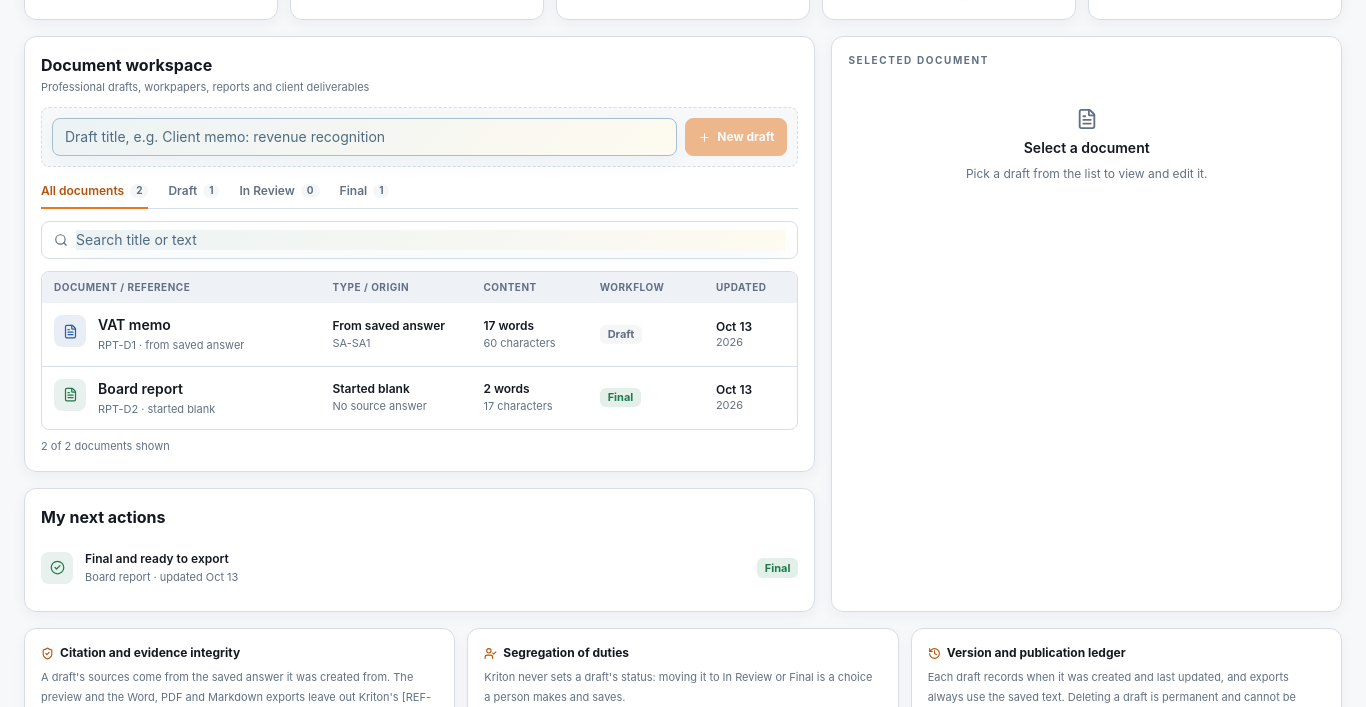
Test: Drafts & Reports › previews formatted text and lists the answer's sources
This screenshot has width=1366, height=707.
(page scrolled)
Click the text "VAT memo" at point(134, 324), box [98,316,171,333]
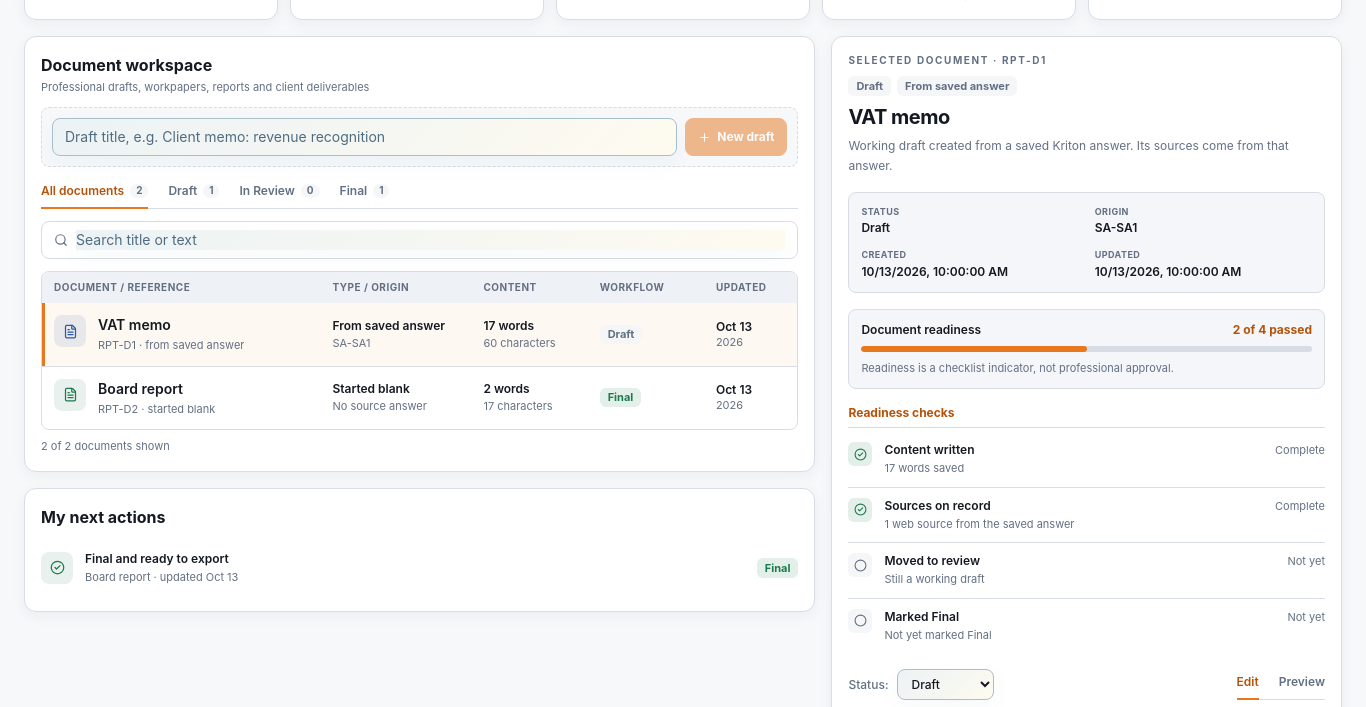
Click the tab "Preview" at point(1302, 687), box [1279,674,1325,700]
(page scrolled)
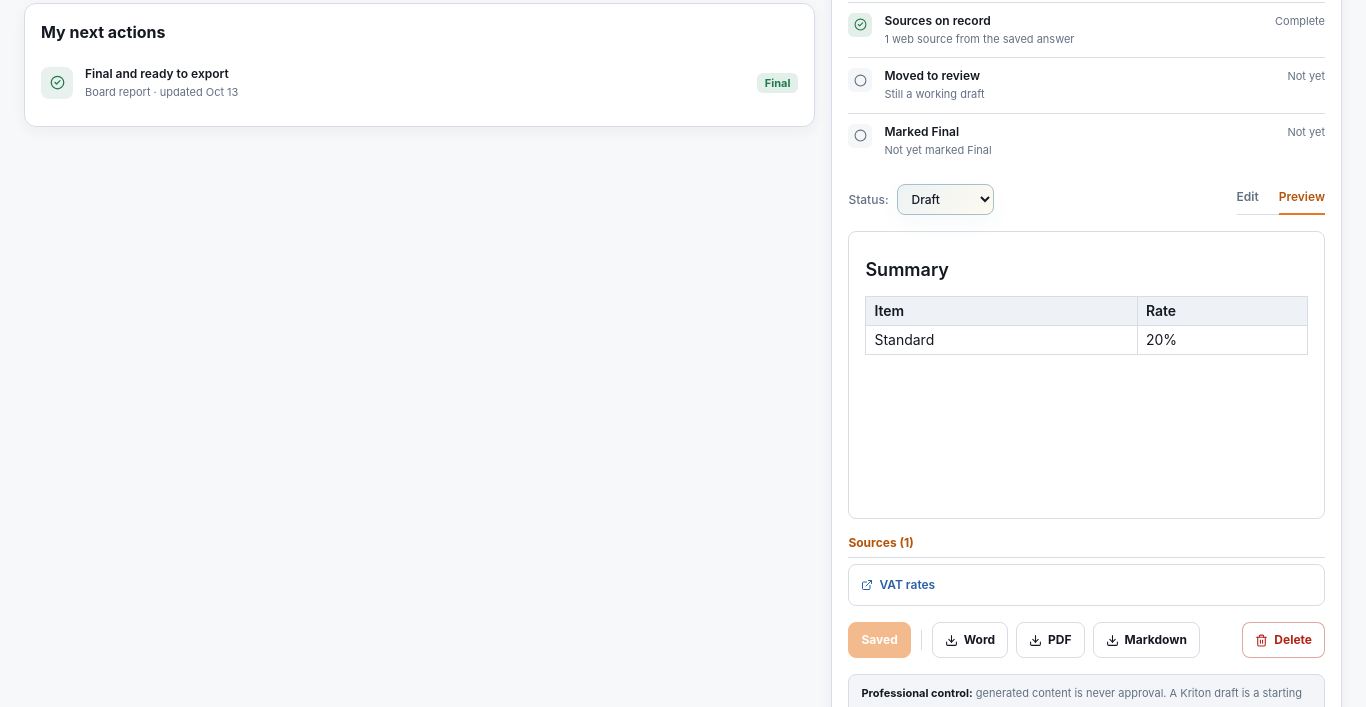
Check: the heading "Summary" is shown, box [865,259,949,280]
Check: the table is shown, box [865,296,1308,355]
